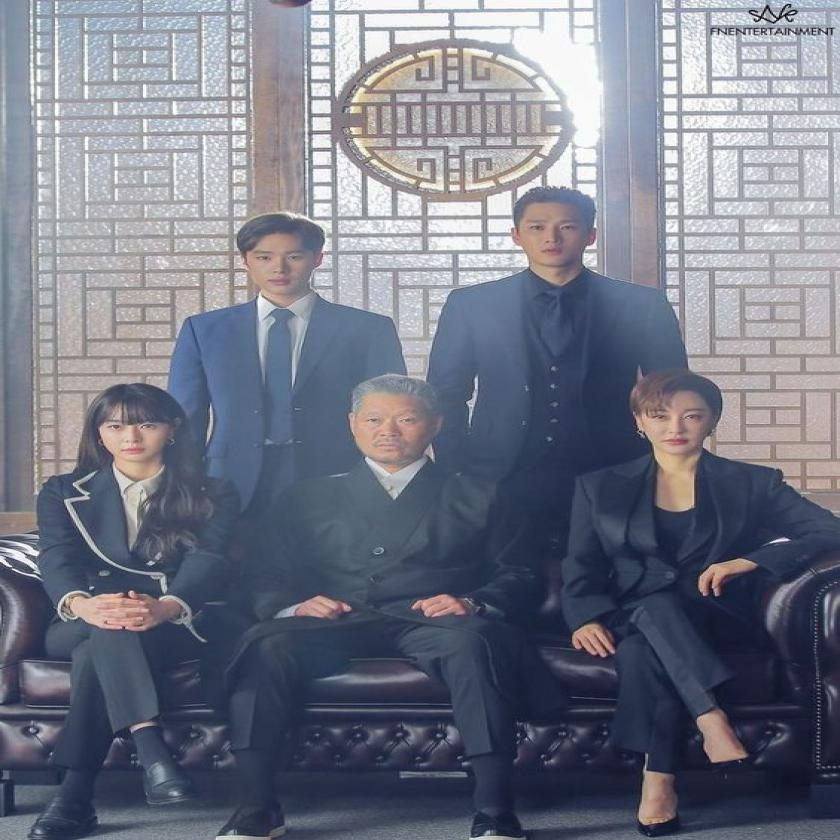Sin_casco: (624, 366, 735, 464), (82, 382, 186, 483), (343, 372, 443, 473), (233, 208, 331, 303), (510, 182, 603, 281)
